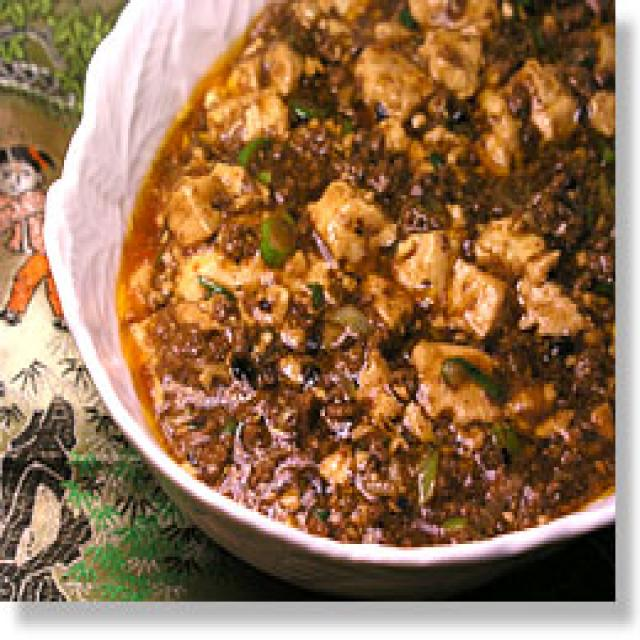豆腐料理: (35, 0, 603, 592)
